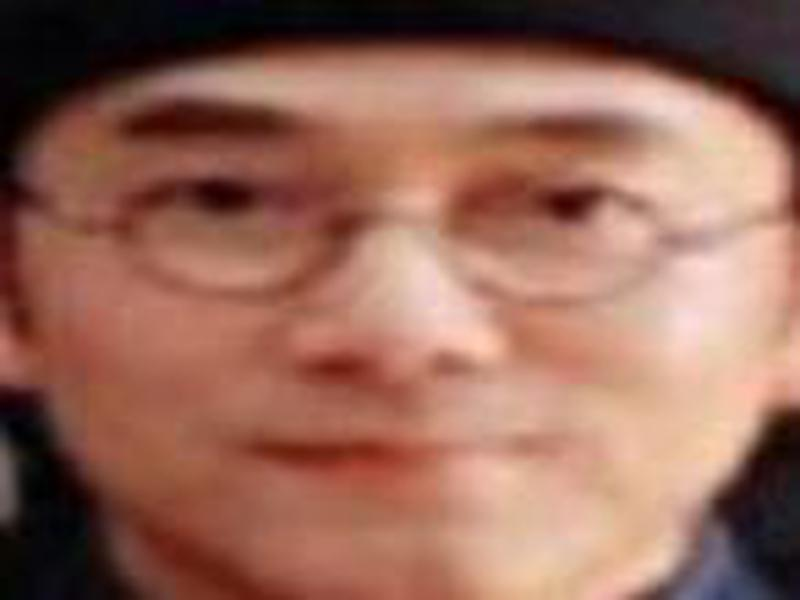without_mask: (23, 72, 785, 578)
